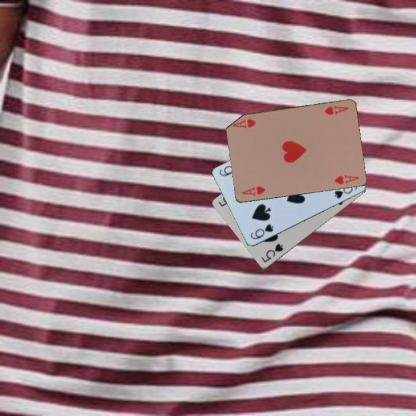5s: (259, 241, 284, 264)
6s: (248, 221, 274, 241)
Ah: (321, 103, 349, 117), (239, 184, 266, 198)
